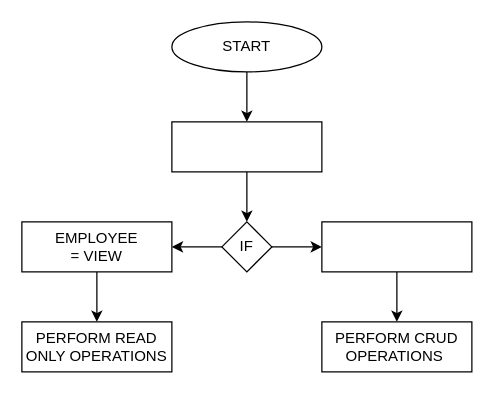
Image size: 494x394. Some labels were removed from this diagram. The shapes that lost their labels are listed below. From the top down, each one's box as (x1, y1, x2, y2) in pixels, then its label:
(171, 121, 322, 172): CHECK USER ACCESS LEVEL
(321, 221, 472, 272): ADMINISTRATOR = VIEW / EDIT
